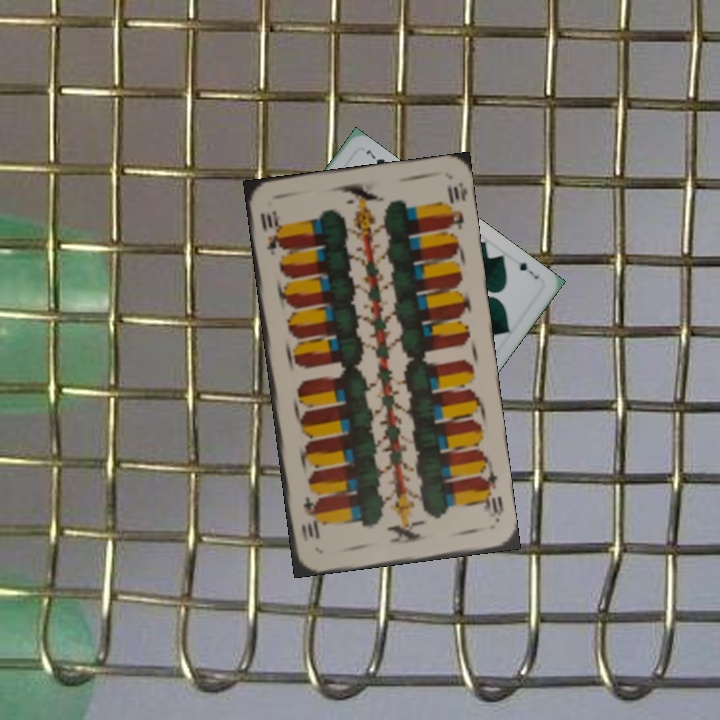E10: (476, 466, 506, 525), (256, 207, 286, 258)
G7: (515, 258, 541, 282)
